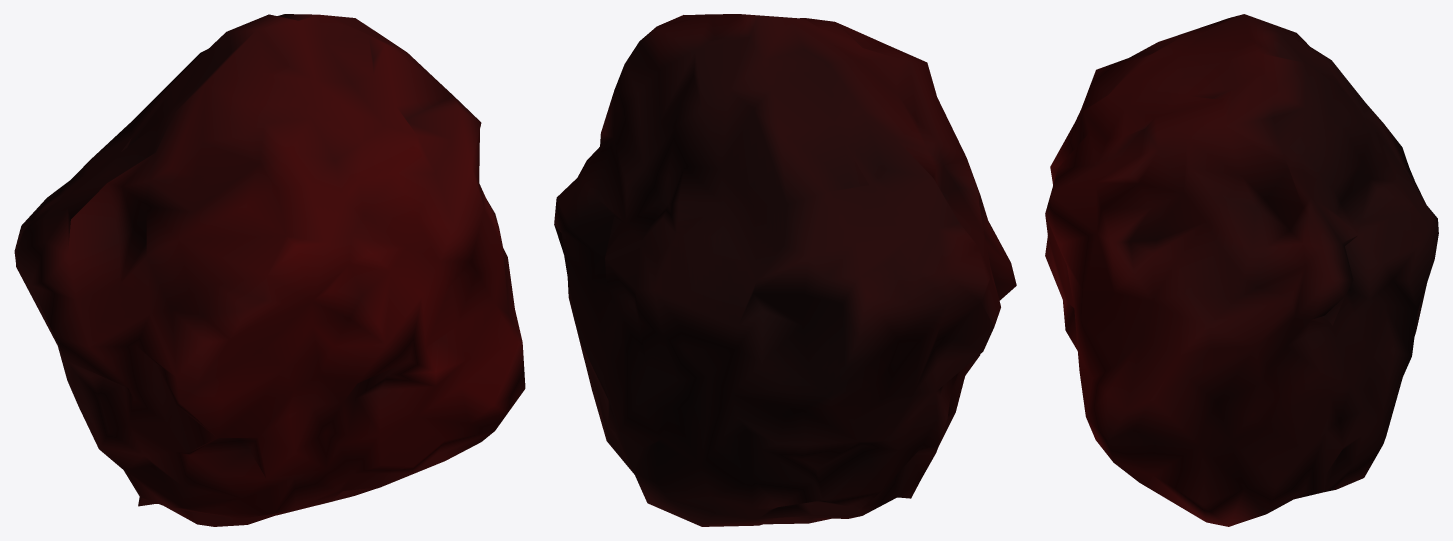
The model's file is geology-rocks-meteoritesmall_v1.fbx.
3 views of the same model, side by side, from view 1: azimuth 30°, elevation 25°; view 2: azimuth 150°, elevation 25°; view 3: azimuth 270°, elevation 25° (orthographic). The views are drawn at different scales.
Visible parts, largest first — view 1: MeteoriteSmall_v1; view 2: MeteoriteSmall_v1; view 3: MeteoriteSmall_v1.
Part boxes in pixels (x1,y1,x2,y2): MeteoriteSmall_v1: (14,14,525,526); MeteoriteSmall_v1: (554,14,1016,526); MeteoriteSmall_v1: (1045,14,1438,526).
Size of the model in its own units: 1.39 by 1.55 by 1.18.
